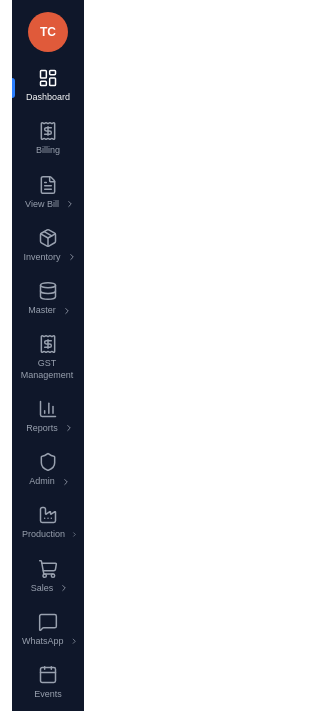
Test case: Sidebar - Desktop rail › shows submenu items on hover (mouseenter)
Expected: the text "View Bill" is shown, [25,198,59,208]
# Hover over it
Hover over the text "View Bill".
mouse_move(48, 192)  # box [12,166,84,218]
Wait 50 ms
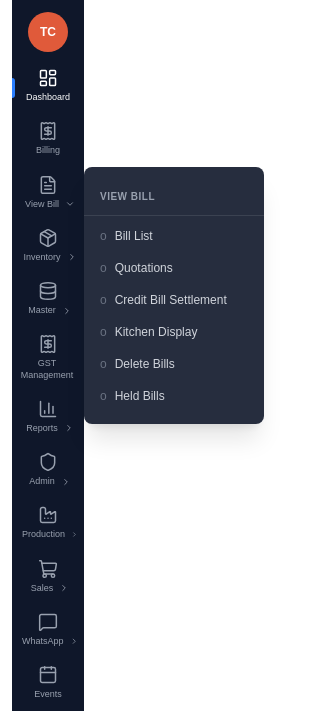
Now the link "oBill List" is shown, box [100,228,153,242]
